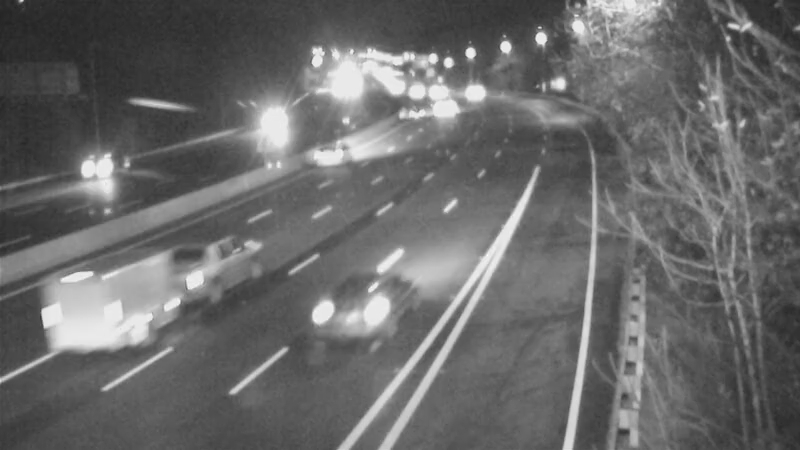vehicle: (294, 266, 404, 376), (297, 113, 377, 193), (152, 245, 232, 325), (59, 121, 139, 201), (447, 66, 497, 116), (391, 71, 441, 121), (413, 64, 463, 114), (422, 83, 472, 133), (387, 89, 437, 139), (246, 98, 296, 148)
